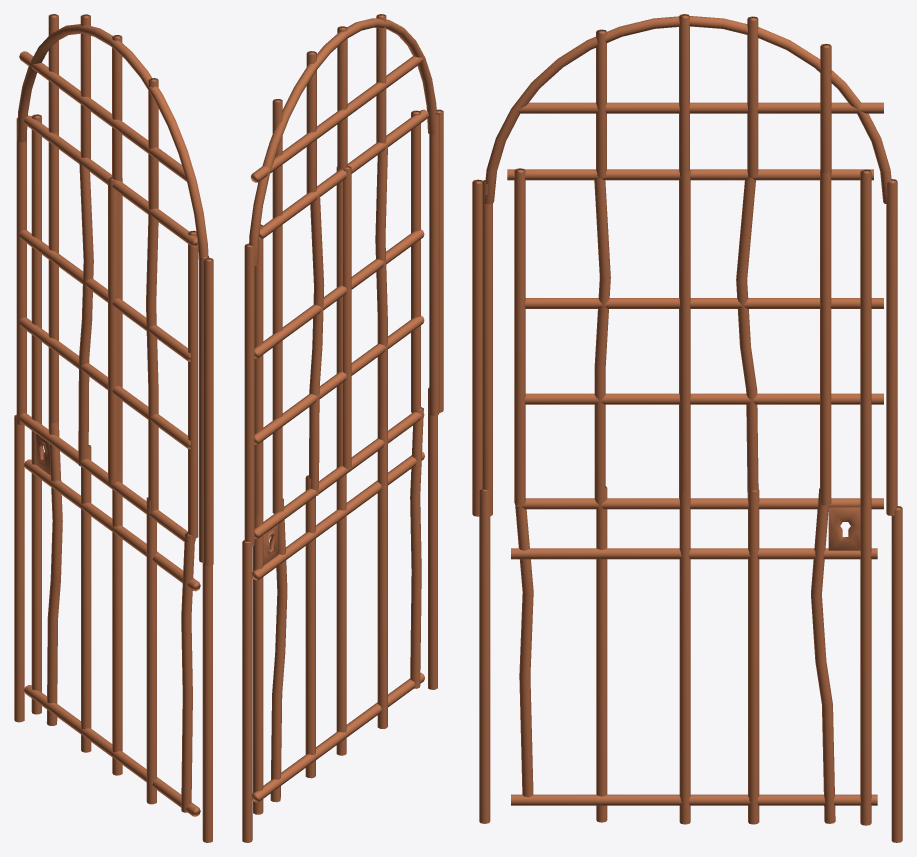
The model's file is Prison_Door_01_Lod0.fbx.
3 views of the same model, side by side, from view 1: azimuth 30°, elevation 25°; view 2: azimuth 150°, elevation 25°; view 3: azimuth 270°, elevation 25° (orthographic). The views are drawn at different scales.
Parts seen in each view (by area): view 1: Prison_Door_01_Lod0; view 2: Prison_Door_01_Lod0; view 3: Prison_Door_01_Lod0.
Boxes of the visible parts, <box> form: Prison_Door_01_Lod0: <box>14,14,213,842</box>; Prison_Door_01_Lod0: <box>242,14,443,842</box>; Prison_Door_01_Lod0: <box>472,14,902,842</box>.
Size of the model in its own units: 8.12 by 372 by 176.
